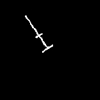double_crochet: (25, 16, 52, 51)
